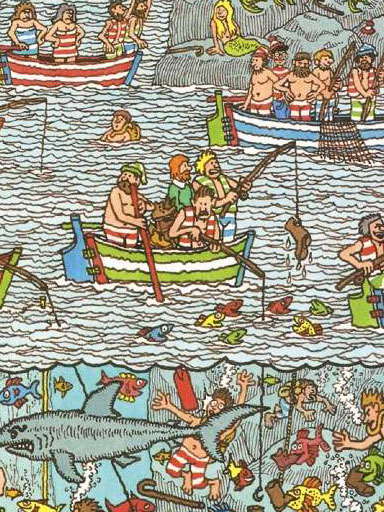waldo: (269, 36, 288, 66)
